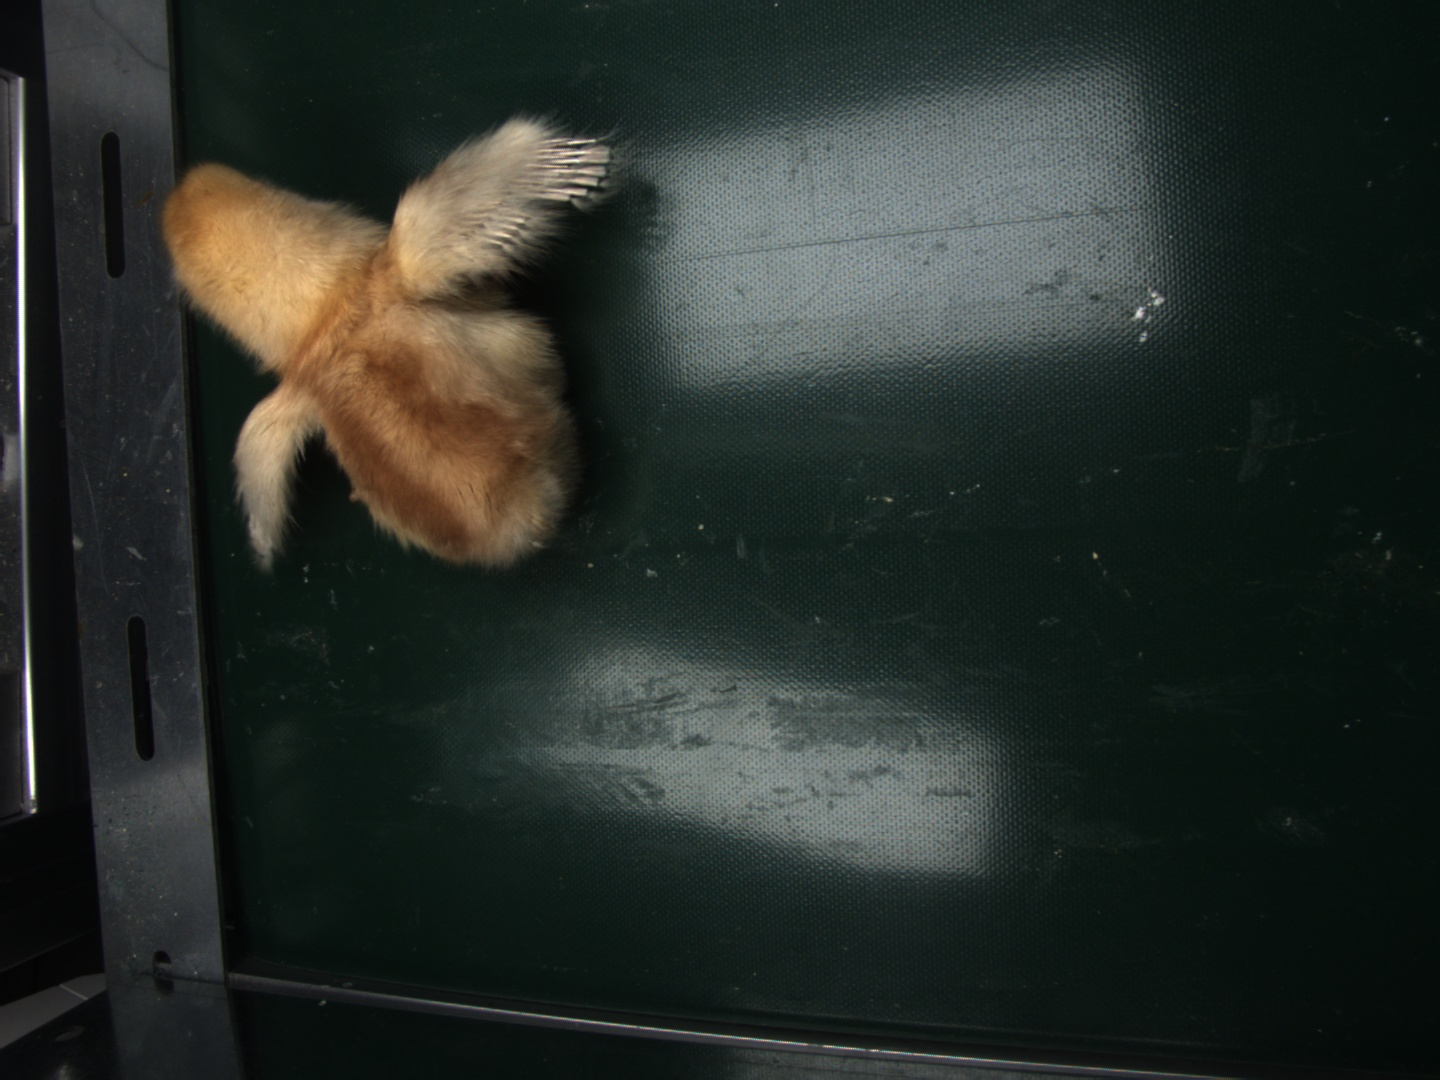female: (534, 133, 611, 202)
